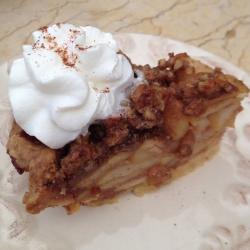apple_pie: (14, 59, 244, 206)
chantilly: (13, 21, 138, 150)
